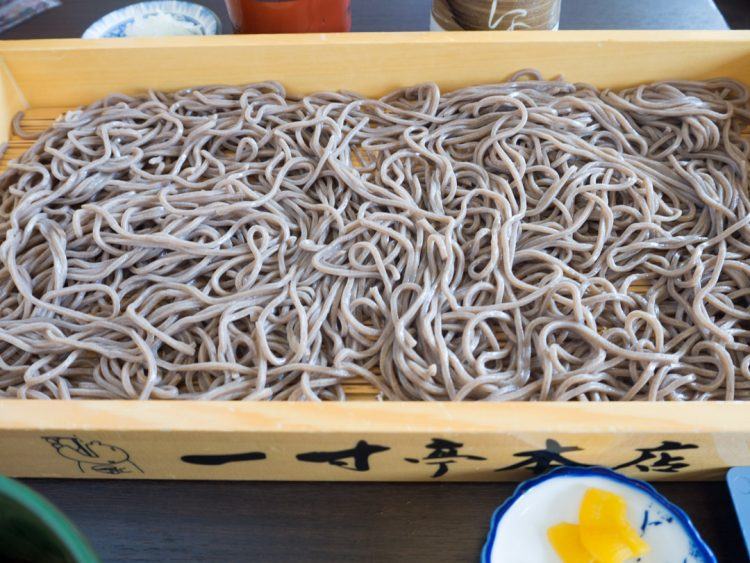Soba: (1, 90, 750, 405)
